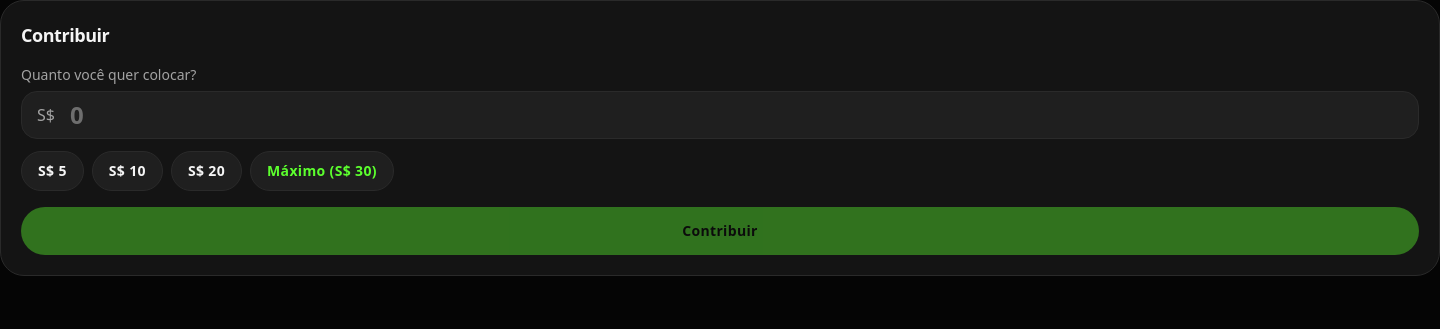
<FormContribuir> › não deixa contribuir acima do máximo
Type "50" into the field labelled "Quanto você quer colocar?" at (720, 115), box [21, 91, 1419, 139]
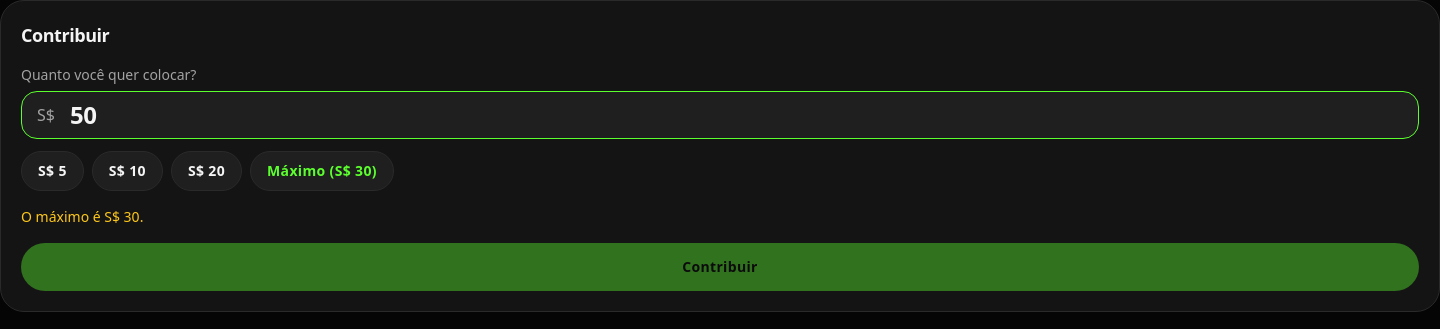
Expected: the button "Contribuir" is disabled, [21, 243, 1419, 291]
Now the text "O máximo é S$ 30." is shown, box [21, 207, 143, 226]
